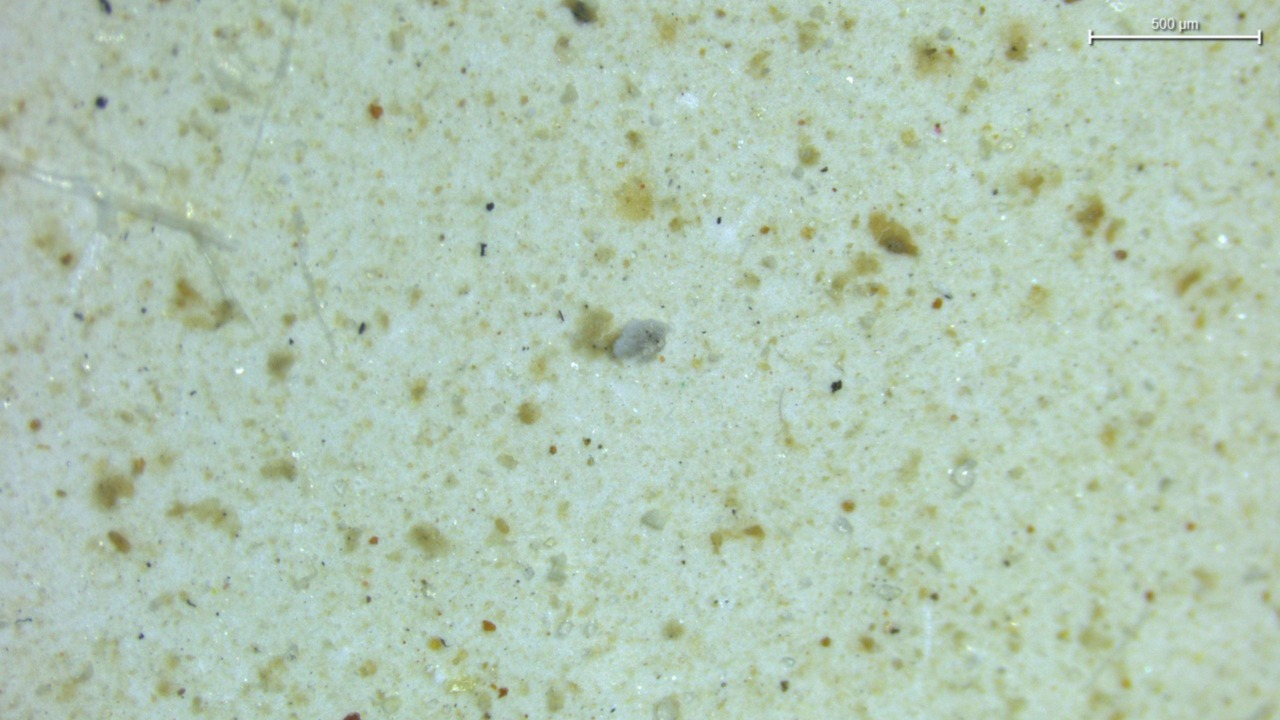microplastic_fragment: (613, 319, 668, 360)
